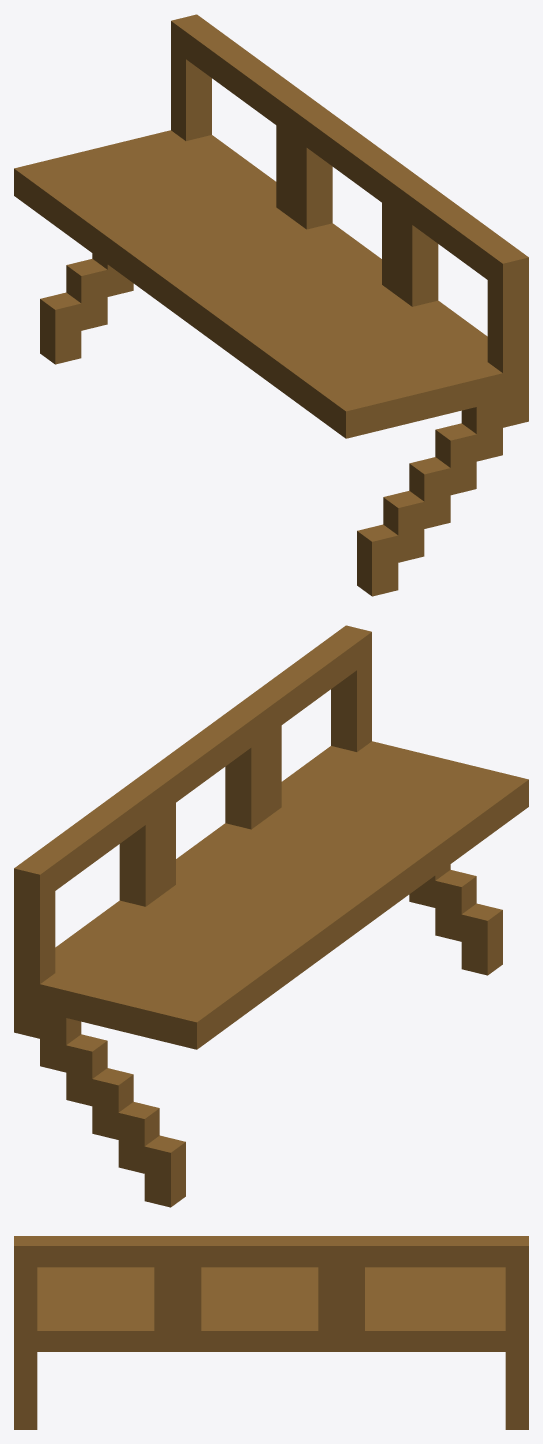
Rendered from balcony.glb.
3 renders of one model, top to bottom at view 1: azimuth 30°, elevation 25°; view 2: azimuth 150°, elevation 25°; view 3: azimuth 270°, elevation 25°, orthographic. The views are drawn at different scales.
Visible parts, largest first — view 1: pl0; view 2: pl0; view 3: pl0.
Part boxes in pixels (<box>): pl0: <box>14,14,528,596</box>; pl0: <box>14,625,528,1207</box>; pl0: <box>14,1236,528,1429</box>.
Size of the model in its own units: 0.7 by 1.1 by 2.2.
Materials: 1 (1 with a texture image).
